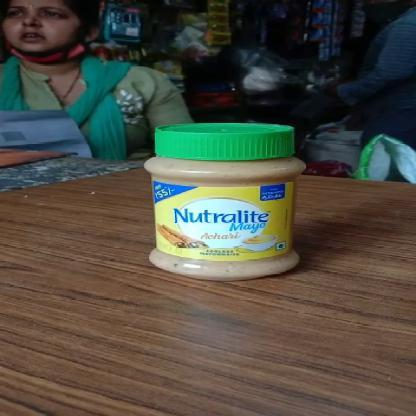Nutralite ACHARI MAYO 300g-275g-25g-: (144, 122, 307, 283)
